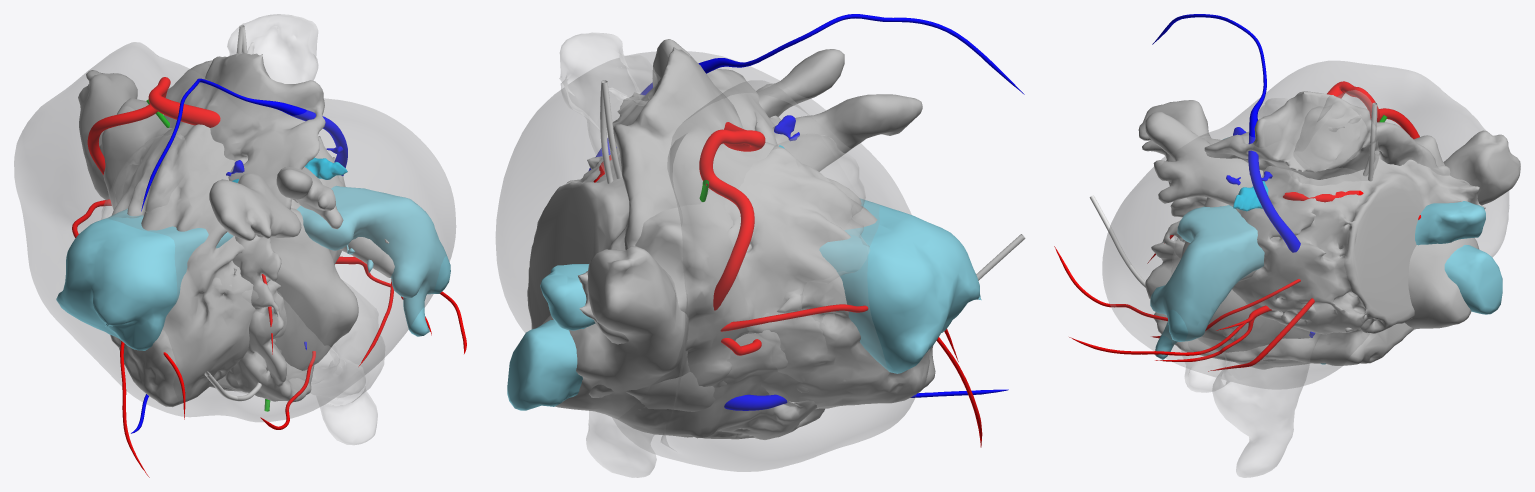
Rendered from inHEART_explode.glb.
3 renders of one model, left to right at view 1: azimuth 30°, elevation 25°; view 2: azimuth 150°, elevation 25°; view 3: azimuth 270°, elevation 25°, orthographic. The views are drawn at different scales.
Parts seen in each view (by area): view 1: EPI (CT) - Left and Right Epicardium - inHEART, LV ENDO (CT) - Left Ventricular Endocardium - inHEART, PAT (CT) - Pulmonary Artery Trunk - inHEART, LA ENDO (CT) - Left Atrial Endocardium with Pulmonary Veins , RA ENDO (CT) - Right Atrial Endocardium - inHEART, RV ENDO (CT) - Right Ventricular Endocardium - inHEART, RCA - (CT) Right Coronary Artery - inHEART, CS - (CT) Coronary Sinus - inHEART, LCA - (CT) Left Coronary Artery - inHEART, LEADS - (CT) ICD Leads - inHEART, SCAR (LE) - Scar - inHEART; view 2: EPI (CT) - Left and Right Epicardium - inHEART, LV ENDO (CT) - Left Ventricular Endocardium - inHEART, RA ENDO (CT) - Right Atrial Endocardium - inHEART, LA ENDO (CT) - Left Atrial Endocardium with Pulmonary Veins , PAT (CT) - Pulmonary Artery Trunk - inHEART, RV ENDO (CT) - Right Ventricular Endocardium - inHEART, RCA - (CT) Right Coronary Artery - inHEART, CS - (CT) Coronary Sinus - inHEART, LEADS - (CT) ICD Leads - inHEART, LCA - (CT) Left Coronary Artery - inHEART; view 3: EPI (CT) - Left and Right Epicardium - inHEART, LV ENDO (CT) - Left Ventricular Endocardium - inHEART, RA ENDO (CT) - Right Atrial Endocardium - inHEART, LA ENDO (CT) - Left Atrial Endocardium with Pulmonary Veins , RV ENDO (CT) - Right Ventricular Endocardium - inHEART, PAT (CT) - Pulmonary Artery Trunk - inHEART, RCA - (CT) Right Coronary Artery - inHEART, CS - (CT) Coronary Sinus - inHEART, LCA - (CT) Left Coronary Artery - inHEART, LEADS - (CT) ICD Leads - inHEART, SCAR (LE) - Scar - inHEART.
Part boxes in pixels (x1=…): EPI (CT) - Left and Right Epicardium - inHEART: x1=14, y1=42, x2=455, y2=421; LV ENDO (CT) - Left Ventricular Endocardium - inHEART: x1=99, y1=98, x2=345, y2=407; PAT (CT) - Pulmonary Artery Trunk - inHEART: x1=56, y1=185, x2=450, y2=350; LA ENDO (CT) - Left Atrial Endocardium with Pulmonary Veins : x1=78, y1=70, x2=394, y2=391; RA ENDO (CT) - Right Atrial Endocardium - inHEART: x1=101, y1=14, x2=384, y2=444; RV ENDO (CT) - Right Ventricular Endocardium - inHEART: x1=164, y1=52, x2=325, y2=401; RCA - (CT) Right Coronary Artery - inHEART: x1=72, y1=77, x2=466, y2=429; CS - (CT) Coronary Sinus - inHEART: x1=131, y1=78, x2=347, y2=433; LCA - (CT) Left Coronary Artery - inHEART: x1=120, y1=274, x2=393, y2=477; LEADS - (CT) ICD Leads - inHEART: x1=204, y1=25, x2=261, y2=401; SCAR (LE) - Scar - inHEART: x1=232, y1=157, x2=347, y2=182; EPI (CT) - Left and Right Epicardium - inHEART: x1=495, y1=51, x2=923, y2=471; LV ENDO (CT) - Left Ventricular Endocardium - inHEART: x1=527, y1=142, x2=935, y2=409; RA ENDO (CT) - Right Atrial Endocardium - inHEART: x1=559, y1=32, x2=869, y2=477; LA ENDO (CT) - Left Atrial Endocardium with Pulmonary Veins : x1=542, y1=49, x2=922, y2=439; PAT (CT) - Pulmonary Artery Trunk - inHEART: x1=507, y1=198, x2=981, y2=410; RV ENDO (CT) - Right Ventricular Endocardium - inHEART: x1=589, y1=39, x2=781, y2=411; RCA - (CT) Right Coronary Artery - inHEART: x1=699, y1=122, x2=868, y2=355; CS - (CT) Coronary Sinus - inHEART: x1=588, y1=14, x2=1024, y2=410; LEADS - (CT) ICD Leads - inHEART: x1=600, y1=80, x2=1025, y2=280; LCA - (CT) Left Coronary Artery - inHEART: x1=936, y1=329, x2=982, y2=447; EPI (CT) - Left and Right Epicardium - inHEART: x1=1102, y1=61, x2=1509, y2=389; LV ENDO (CT) - Left Ventricular Endocardium - inHEART: x1=1179, y1=135, x2=1485, y2=334; RA ENDO (CT) - Right Atrial Endocardium - inHEART: x1=1171, y1=90, x2=1379, y2=477; LA ENDO (CT) - Left Atrial Endocardium with Pulmonary Veins : x1=1138, y1=100, x2=1520, y2=369; RV ENDO (CT) - Right Ventricular Endocardium - inHEART: x1=1145, y1=91, x2=1450, y2=365; PAT (CT) - Pulmonary Artery Trunk - inHEART: x1=1150, y1=137, x2=1502, y2=359; RCA - (CT) Right Coronary Artery - inHEART: x1=1054, y1=81, x2=1419, y2=361; CS - (CT) Coronary Sinus - inHEART: x1=1152, y1=14, x2=1300, y2=252; LCA - (CT) Left Coronary Artery - inHEART: x1=1147, y1=215, x2=1420, y2=371; LEADS - (CT) ICD Leads - inHEART: x1=1089, y1=102, x2=1377, y2=287; SCAR (LE) - Scar - inHEART: x1=1233, y1=181, x2=1325, y2=364.
Bounding box in the file's own units: 0.7897 × 0.8408 × 0.944.
